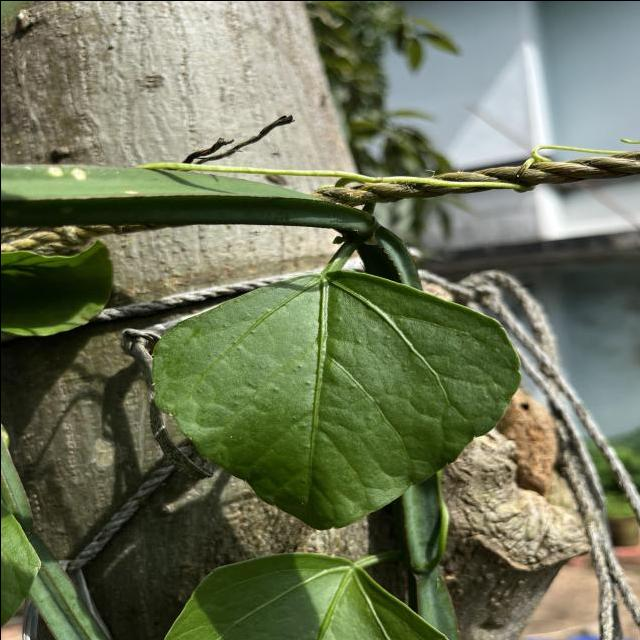Cissus quadrangularis: (146, 264, 524, 533)
